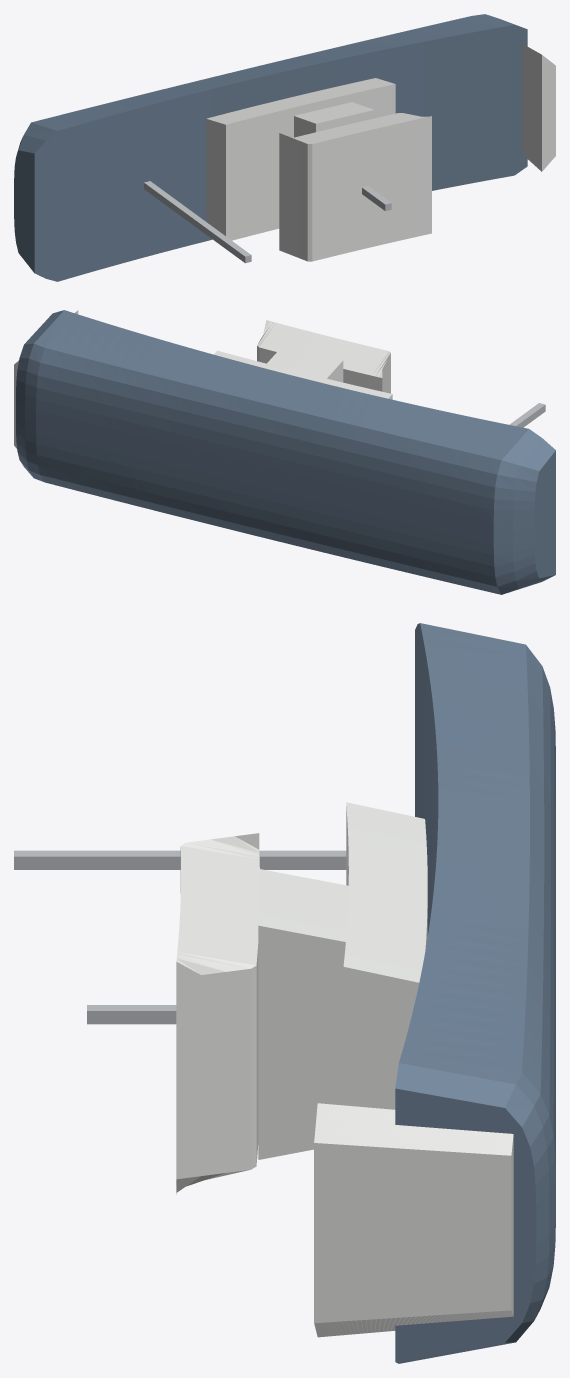
File: loft-pusher-sheered.glb
3 renders of one model, top to bottom at view 1: azimuth 30°, elevation 25°; view 2: azimuth 150°, elevation 25°; view 3: azimuth 270°, elevation 25°, orthographic. The views are drawn at different scales.
Visible parts, largest first — view 1: loft-pusher-sheered; view 2: loft-pusher-sheered; view 3: loft-pusher-sheered.
Boxes of the visible parts, x1,y1,x2,y2 form: loft-pusher-sheered: (14, 14, 555, 281); loft-pusher-sheered: (14, 310, 555, 594); loft-pusher-sheered: (14, 623, 555, 1363).
Size of the model in its own units: 1.88 by 0.546 by 0.891.
